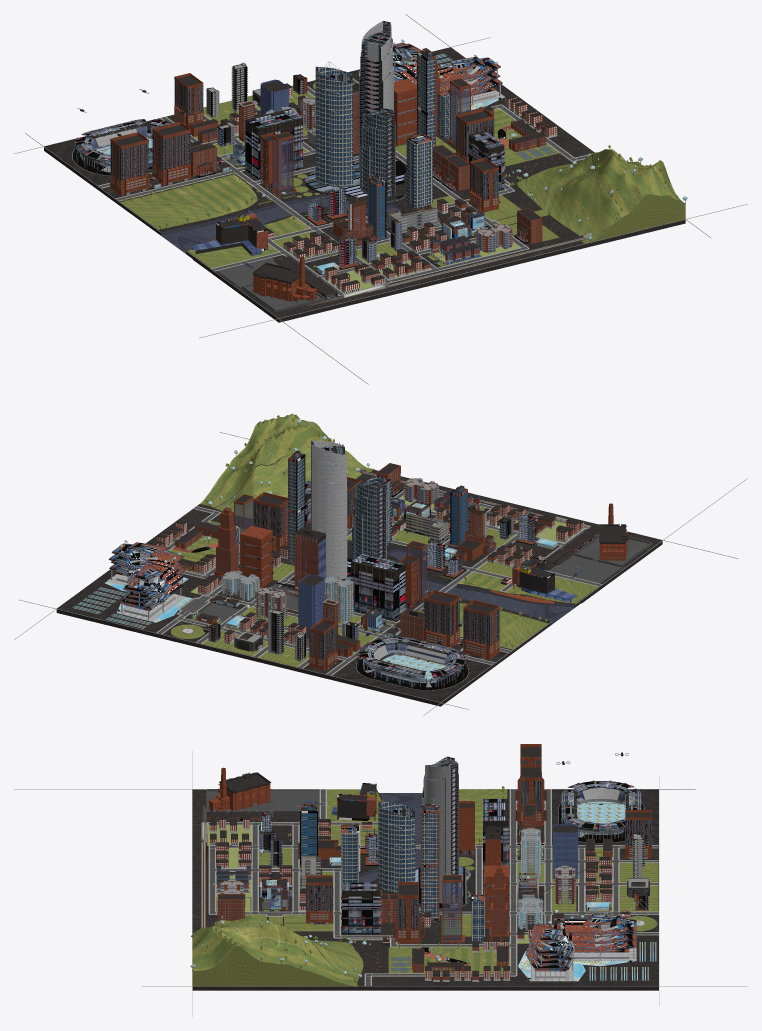
The model's file is intel_city.glb.
3 renders of one model, top to bottom at view 1: azimuth 30°, elevation 25°; view 2: azimuth 150°, elevation 25°; view 3: azimuth 270°, elevation 25°, orthographic. The views are drawn at different scales.
Visible parts, largest first — view 1: Floor_Double_Bool_Material #54_0, windows_1_Building_Rooftop_Elements39.9_0, Benches_2_Off white_0, conditioner1_1_SHINY GREY_0, Grass_Grass_0.002, conditioner_Front Default_0, All_white_material_Main White_0, Cube_1_CREME_0, City_Road_Simple24_City_Road_Simple03_0, Cylinder_1_Material #51_0, Grass_Grass_0.014, 4level_tall_1_4level tall_0 (+18 smaller); view 2: Floor_Double_Bool_Material #54_0, Benches_2_Off white_0, conditioner1_1_SHINY GREY_0, All_white_material_Main White_0, Grass_Grass_0.002, conditioner_Front Default_0, Cylinder_1_Material #51_0, Cube_1_CREME_0, City_Road_Simple24_City_Road_Simple03_0, Tribune_corner_00_Matte Grey_0, windows_1_Building_Rooftop_Elements39.9_0, circle_building_City_Building_111.9_0 (+18 smaller); view 3: Floor_Double_Bool_Material #54_0, City_Road_Simple24_City_Road_Simple03_0, All_white_material_Main White_0, windows_1_Building_Rooftop_Elements39.9_0, Grass_Grass_0.002, conditioner1_1_SHINY GREY_0, Benches_2_Off white_0, conditioner_Front Default_0, Cube_1_CREME_0, Cylinder_1_Material #51_0, Tribune_corner_00_Matte Grey_0, 4level_tall_1_4level tall_0 (+23 smaller).
Boxes of the visible parts, left/top/right/bottom form: Floor_Double_Bool_Material #54_0: left=44, top=47, right=685, bottom=322; windows_1_Building_Rooftop_Elements39.9_0: left=315, top=51, right=457, bottom=209; Benches_2_Off white_0: left=110, top=73, right=561, bottom=245; conditioner1_1_SHINY GREY_0: left=96, top=80, right=504, bottom=267; Grass_Grass_0.002: left=517, top=149, right=683, bottom=243; conditioner_Front Default_0: left=72, top=21, right=528, bottom=269; All_white_material_Main White_0: left=149, top=43, right=511, bottom=299; Cube_1_CREME_0: left=190, top=62, right=545, bottom=268; City_Road_Simple24_City_Road_Simple03_0: left=98, top=78, right=593, bottom=295; Cylinder_1_Material #51_0: left=88, top=42, right=554, bottom=268; Grass_Grass_0.014: left=120, top=174, right=257, bottom=229; 4level_tall_1_4level tall_0: left=228, top=94, right=557, bottom=290; Floor_Double_Bool_Material #54_0: left=56, top=469, right=662, bottom=706; Benches_2_Off white_0: left=174, top=477, right=560, bottom=670; conditioner1_1_SHINY GREY_0: left=185, top=480, right=579, bottom=677; All_white_material_Main White_0: left=108, top=450, right=599, bottom=653; Grass_Grass_0.002: left=200, top=413, right=373, bottom=518; conditioner_Front Default_0: left=311, top=441, right=537, bottom=690; Cylinder_1_Material #51_0: left=109, top=499, right=580, bottom=685; Cube_1_CREME_0: left=185, top=463, right=554, bottom=655; City_Road_Simple24_City_Road_Simple03_0: left=156, top=490, right=601, bottom=675; Tribune_corner_00_Matte Grey_0: left=126, top=442, right=546, bottom=690; windows_1_Building_Rooftop_Elements39.9_0: left=236, top=453, right=391, bottom=566; circle_building_City_Building_111.9_0: left=311, top=440, right=347, bottom=579; Floor_Double_Bool_Material #54_0: left=192, top=789, right=658, bottom=990; City_Road_Simple24_City_Road_Simple03_0: left=207, top=789, right=658, bottom=986; All_white_material_Main White_0: left=207, top=783, right=636, bottom=972; windows_1_Building_Rooftop_Elements39.9_0: left=341, top=757, right=485, bottom=943; Grass_Grass_0.002: left=192, top=914, right=363, bottom=985; conditioner1_1_SHINY GREY_0: left=300, top=760, right=651, bottom=934; Benches_2_Off white_0: left=281, top=744, right=651, bottom=973; conditioner_Front Default_0: left=262, top=756, right=643, bottom=910; Cube_1_CREME_0: left=217, top=799, right=612, bottom=971; Cylinder_1_Material #51_0: left=217, top=788, right=640, bottom=972; Tribune_corner_00_Matte Grey_0: left=206, top=788, right=648, bottom=960; 4level_tall_1_4level tall_0: left=216, top=815, right=612, bottom=980.
Bounding box in the file's own units: 5768 × 1661 × 6728.
41 materials, 41 textured.
